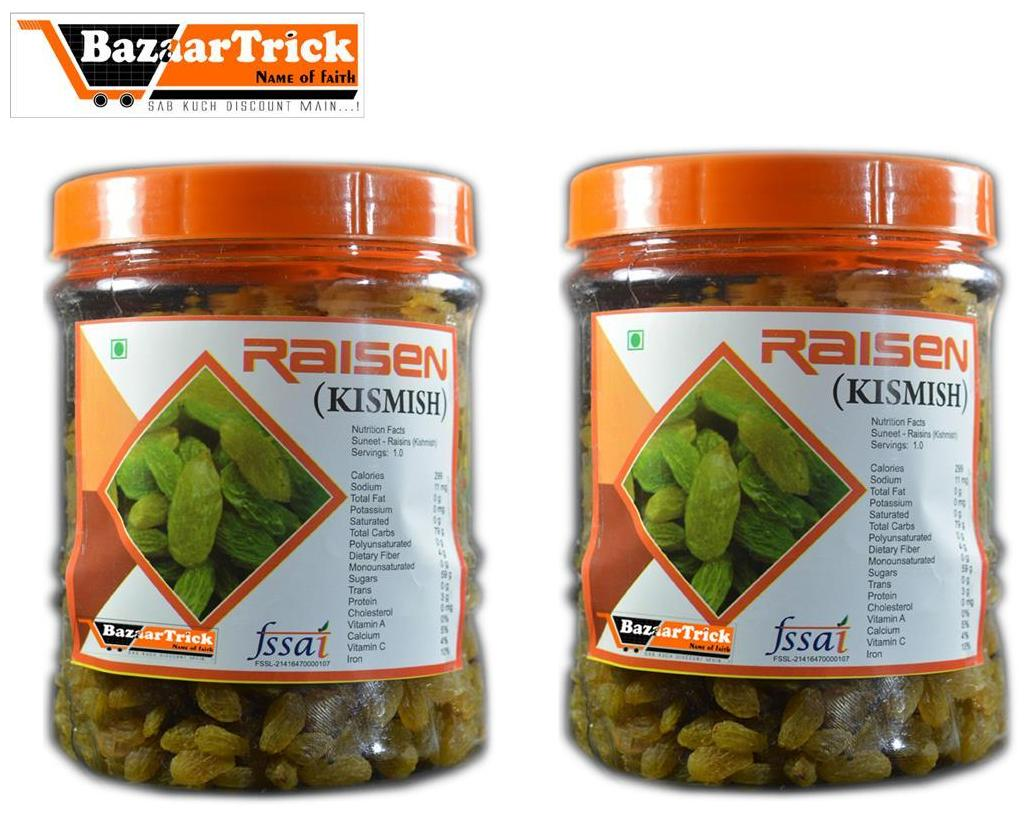JAR: (34, 150, 499, 799), (556, 142, 1012, 797)
